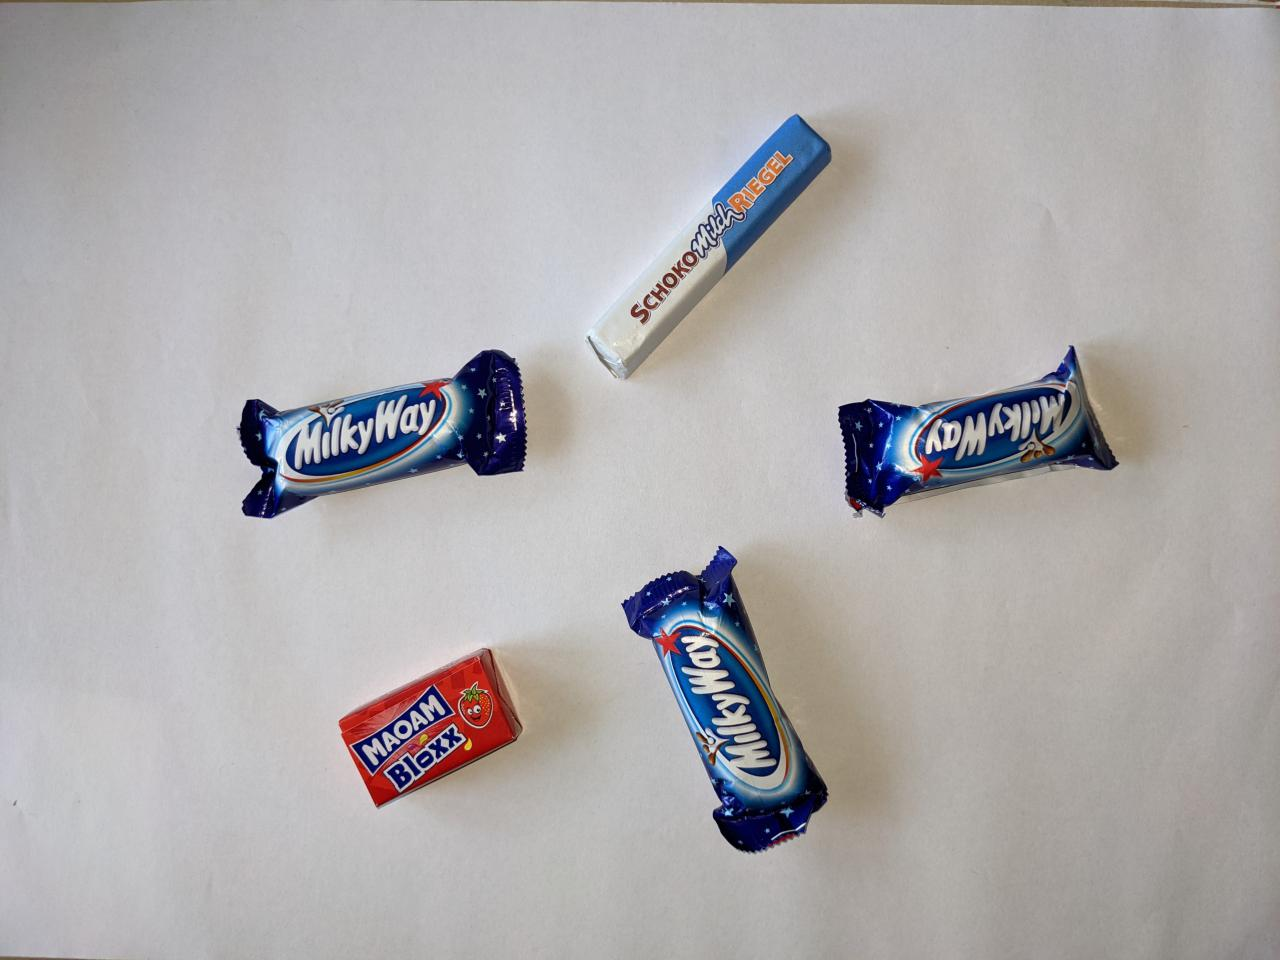MAOAM: (333, 639, 535, 815)
MilkyWay: (617, 539, 837, 858), (229, 343, 535, 526), (833, 338, 1125, 524)
Schokoriegel: (577, 106, 841, 388)
